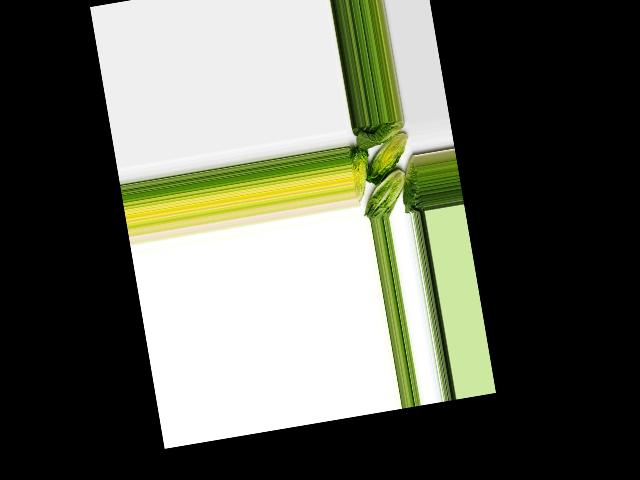lettuce: (351, 119, 406, 152)
